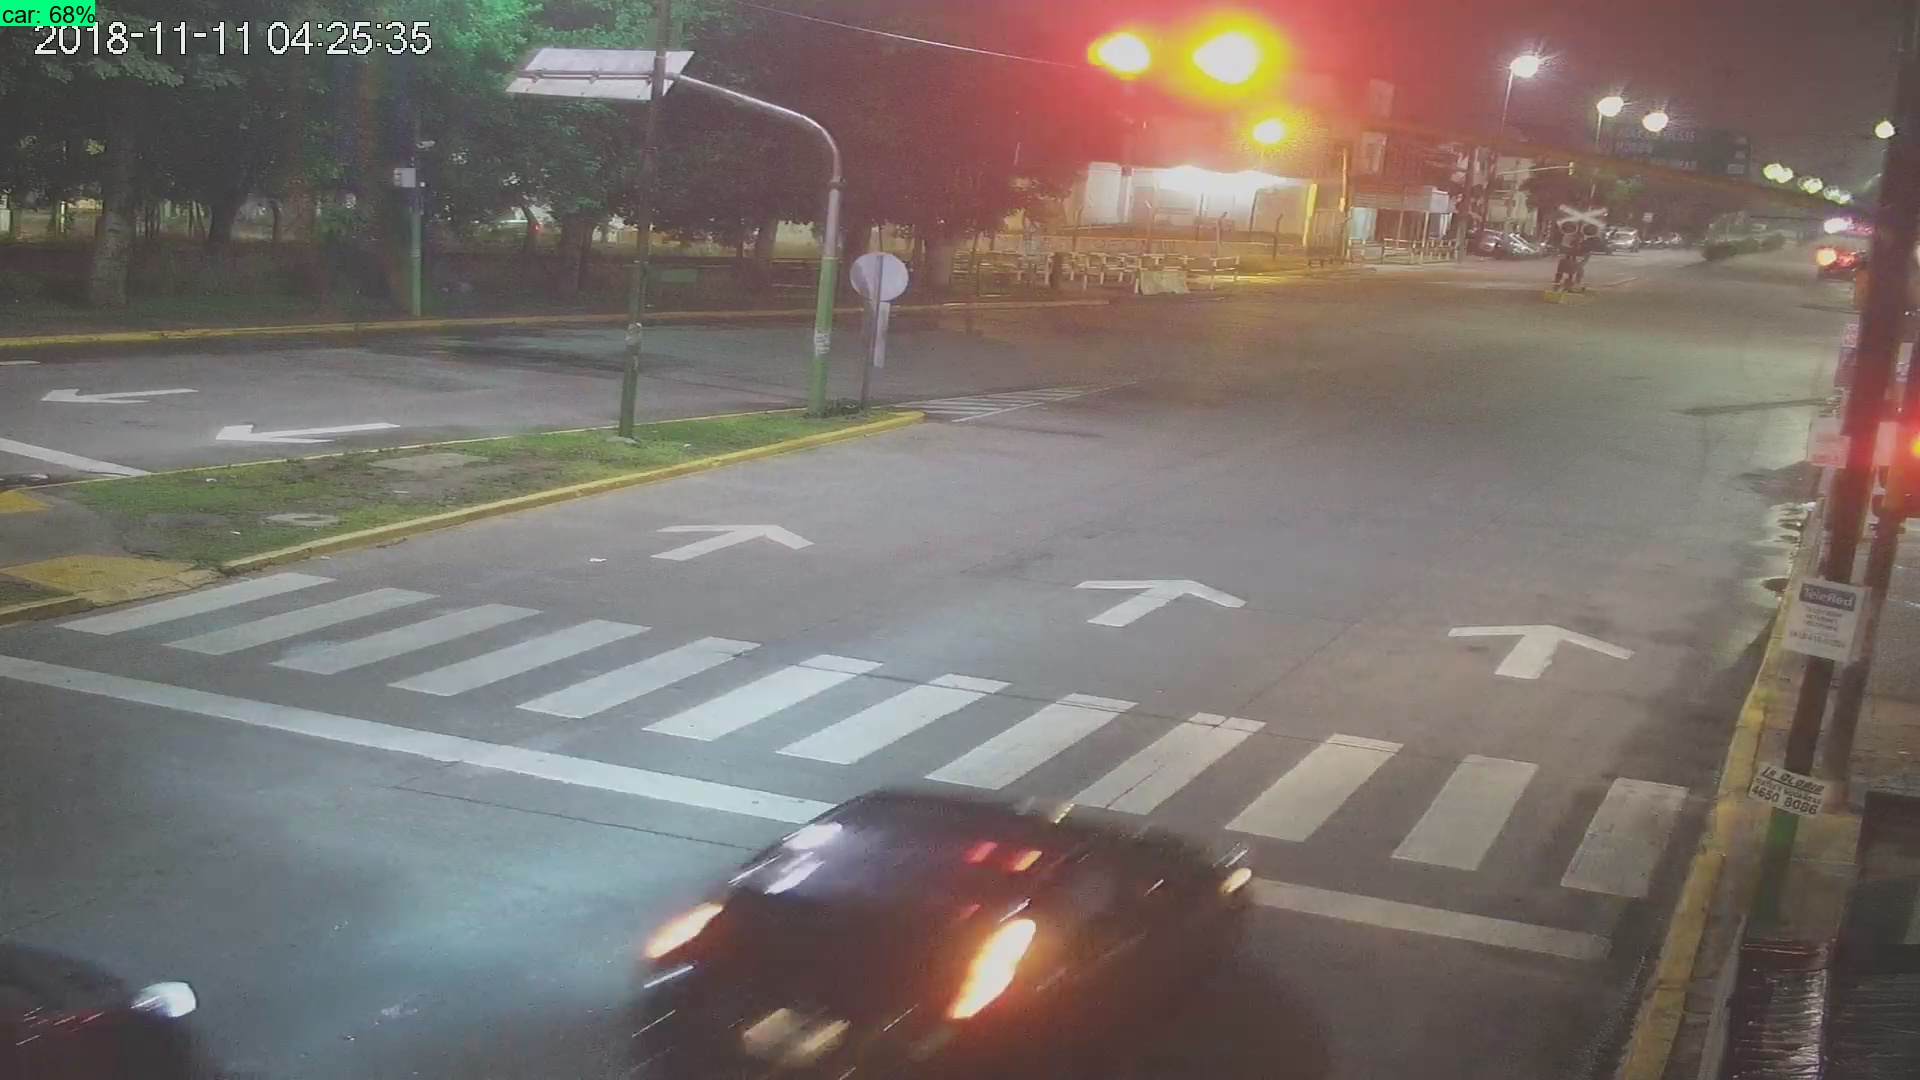car: (642, 785, 1247, 1080)
